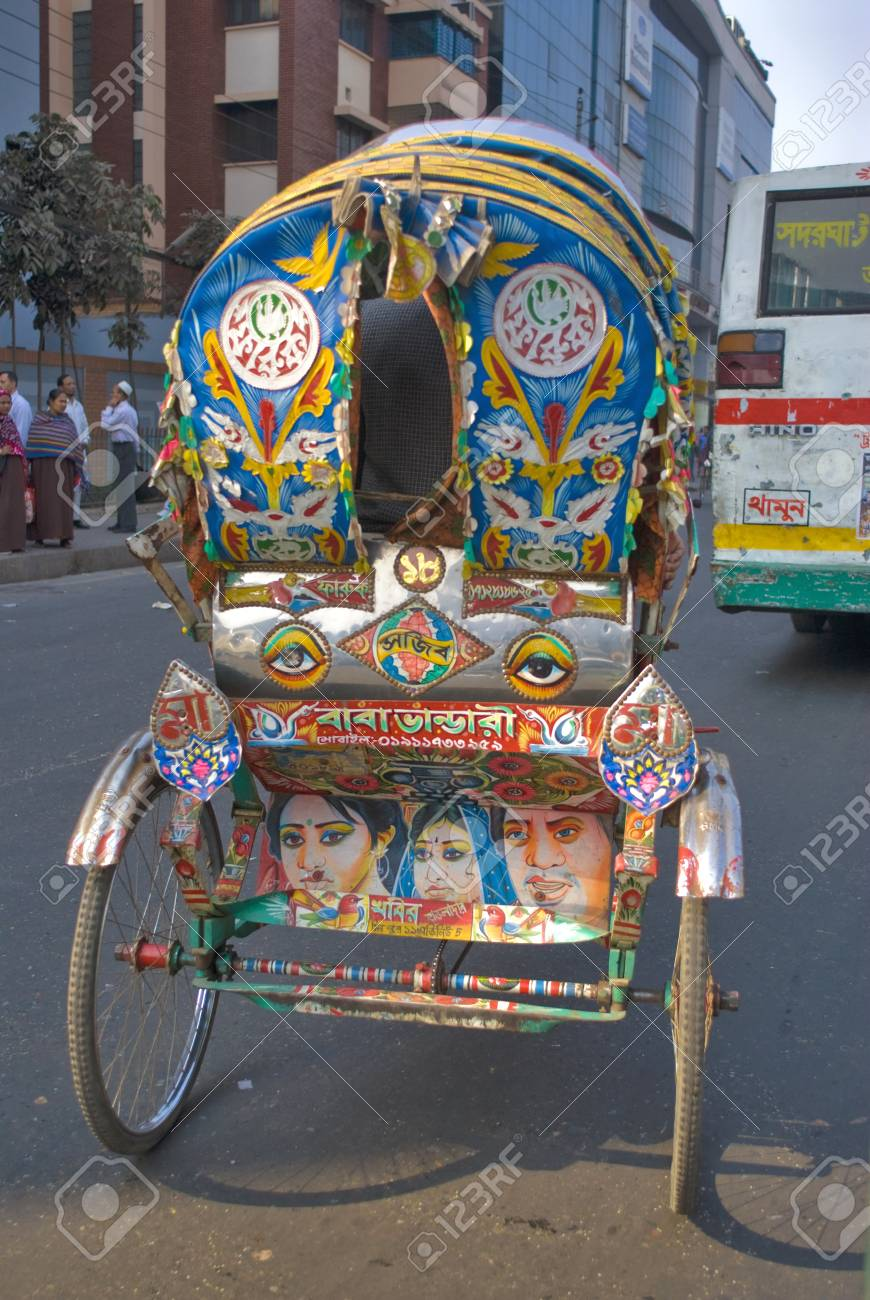Rickshaw: (102, 118, 768, 1276)
